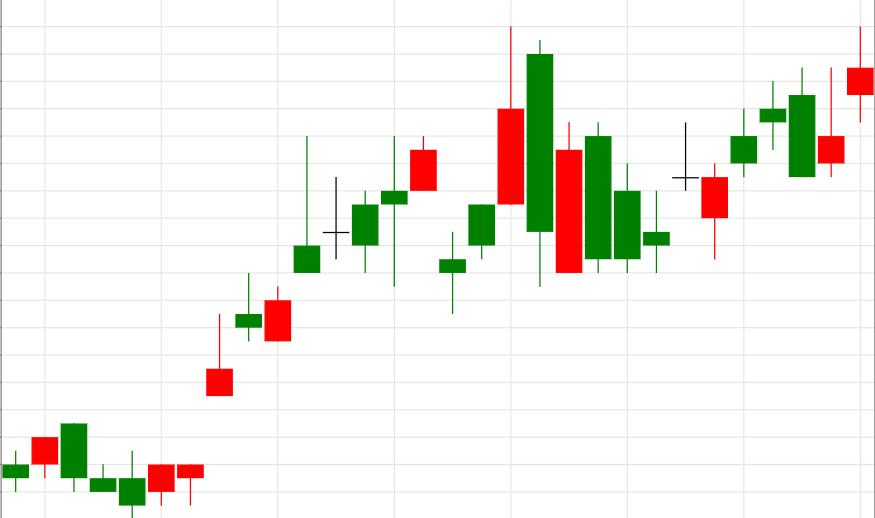shooting_star_fall: (148, 136, 319, 506)
